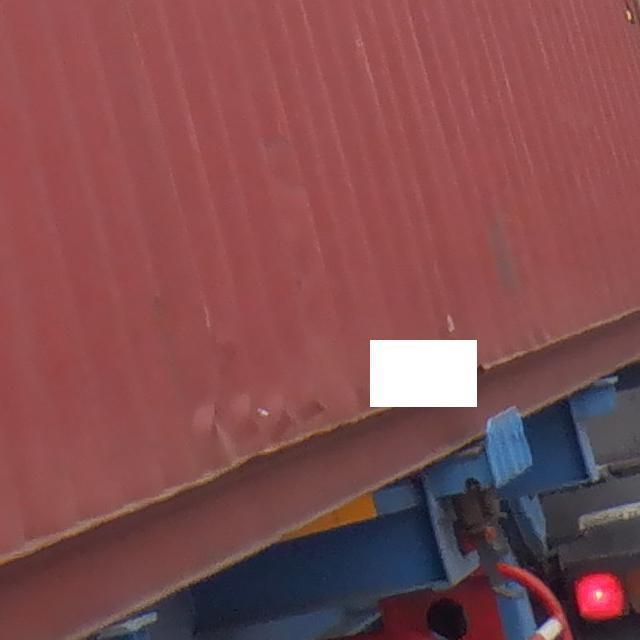dent: (170, 386, 365, 468)
